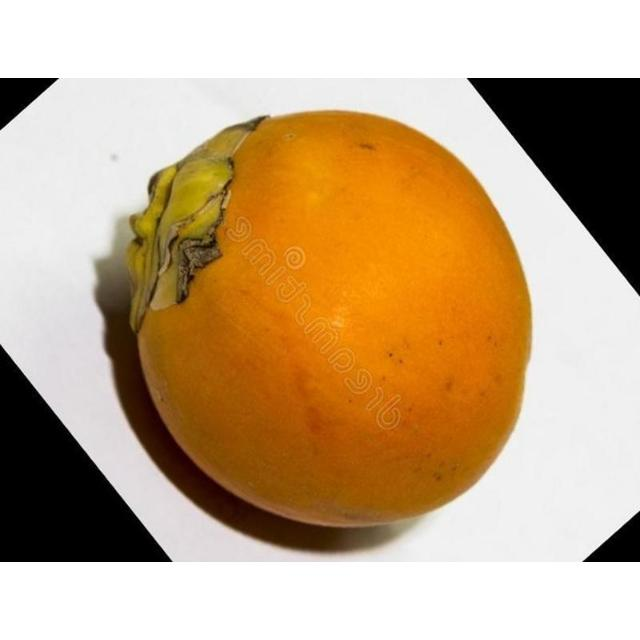good: (122, 110, 534, 532)
